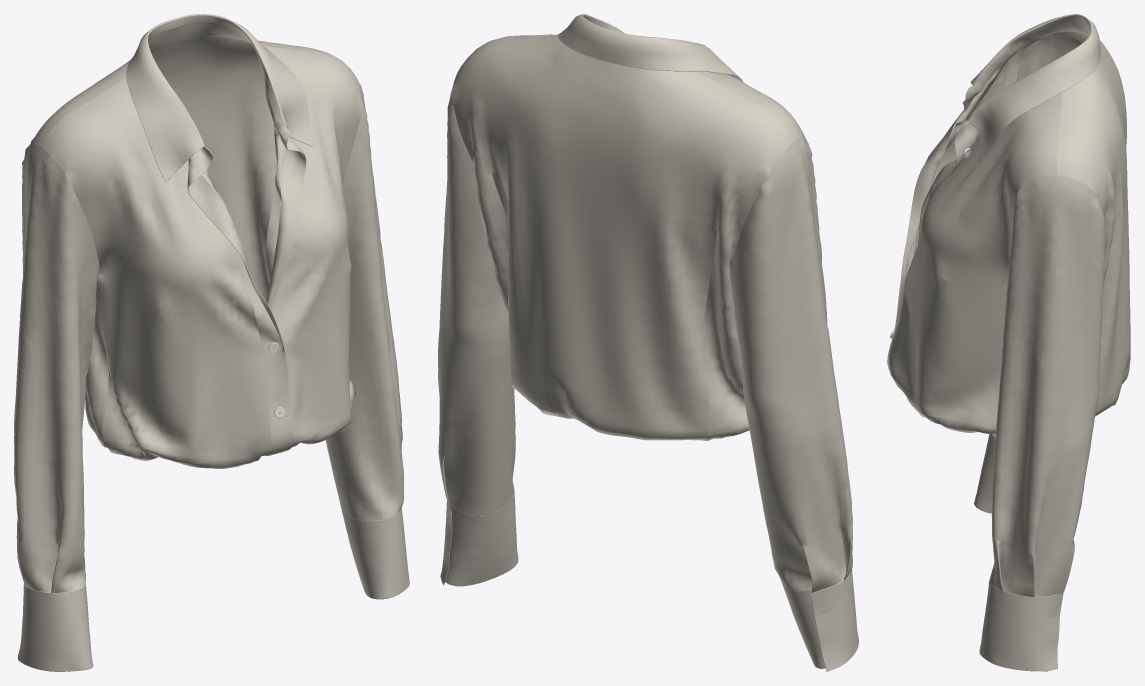
The model's file is candidate-shirt-islands.glb.
3 renders of one model, left to right at view 1: azimuth 30°, elevation 25°; view 2: azimuth 150°, elevation 25°; view 3: azimuth 270°, elevation 25°, orthographic. The views are drawn at different scales.
Parts seen in each view (by area): view 1: Object_8, Object_4, Object_7, Object_9, Object_10, Object_6; view 2: Object_10, Object_4, Object_7, Object_6, Object_8; view 3: Object_7, Object_9, Object_10, Object_6, Object_4, Object_8.
Part boxes in pixels (x1,y1,x2,y2): Object_8: (41,78,271,468); Object_4: (14,136,306,592); Object_7: (17,83,409,671); Object_9: (264,46,363,447); Object_10: (26,35,335,446); Object_6: (126,14,313,455); Object_10: (451,36,792,440); Object_4: (730,137,852,592); Object_7: (438,73,858,671); Object_6: (557,14,742,81); Object_8: (696,71,807,142); Object_7: (974,175,1104,671); Object_9: (889,92,1062,434); Object_10: (1056,31,1130,416); Object_6: (887,14,1100,370); Object_4: (889,34,1081,437); Object_8: (897,32,1059,325).
Size of the model in its own units: 0.4873 by 0.7012 by 0.277.
2 materials, 1 textured.
